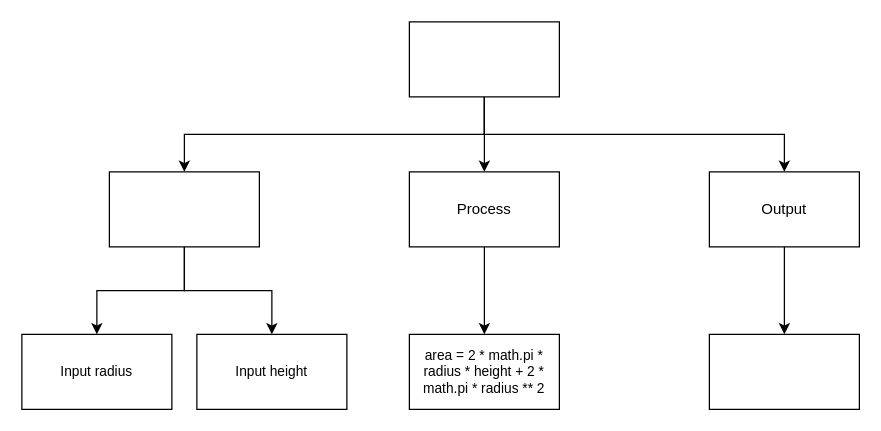
The diagram is 881 pixels wide and 431 high, and some of its shapes have lost their labels. Here are the shapes that lost their labels. From the top down, the box of each, then its label:
(408, 21, 559, 97): cylinder
(108, 171, 259, 247): Input
(708, 333, 859, 409): Show answer
